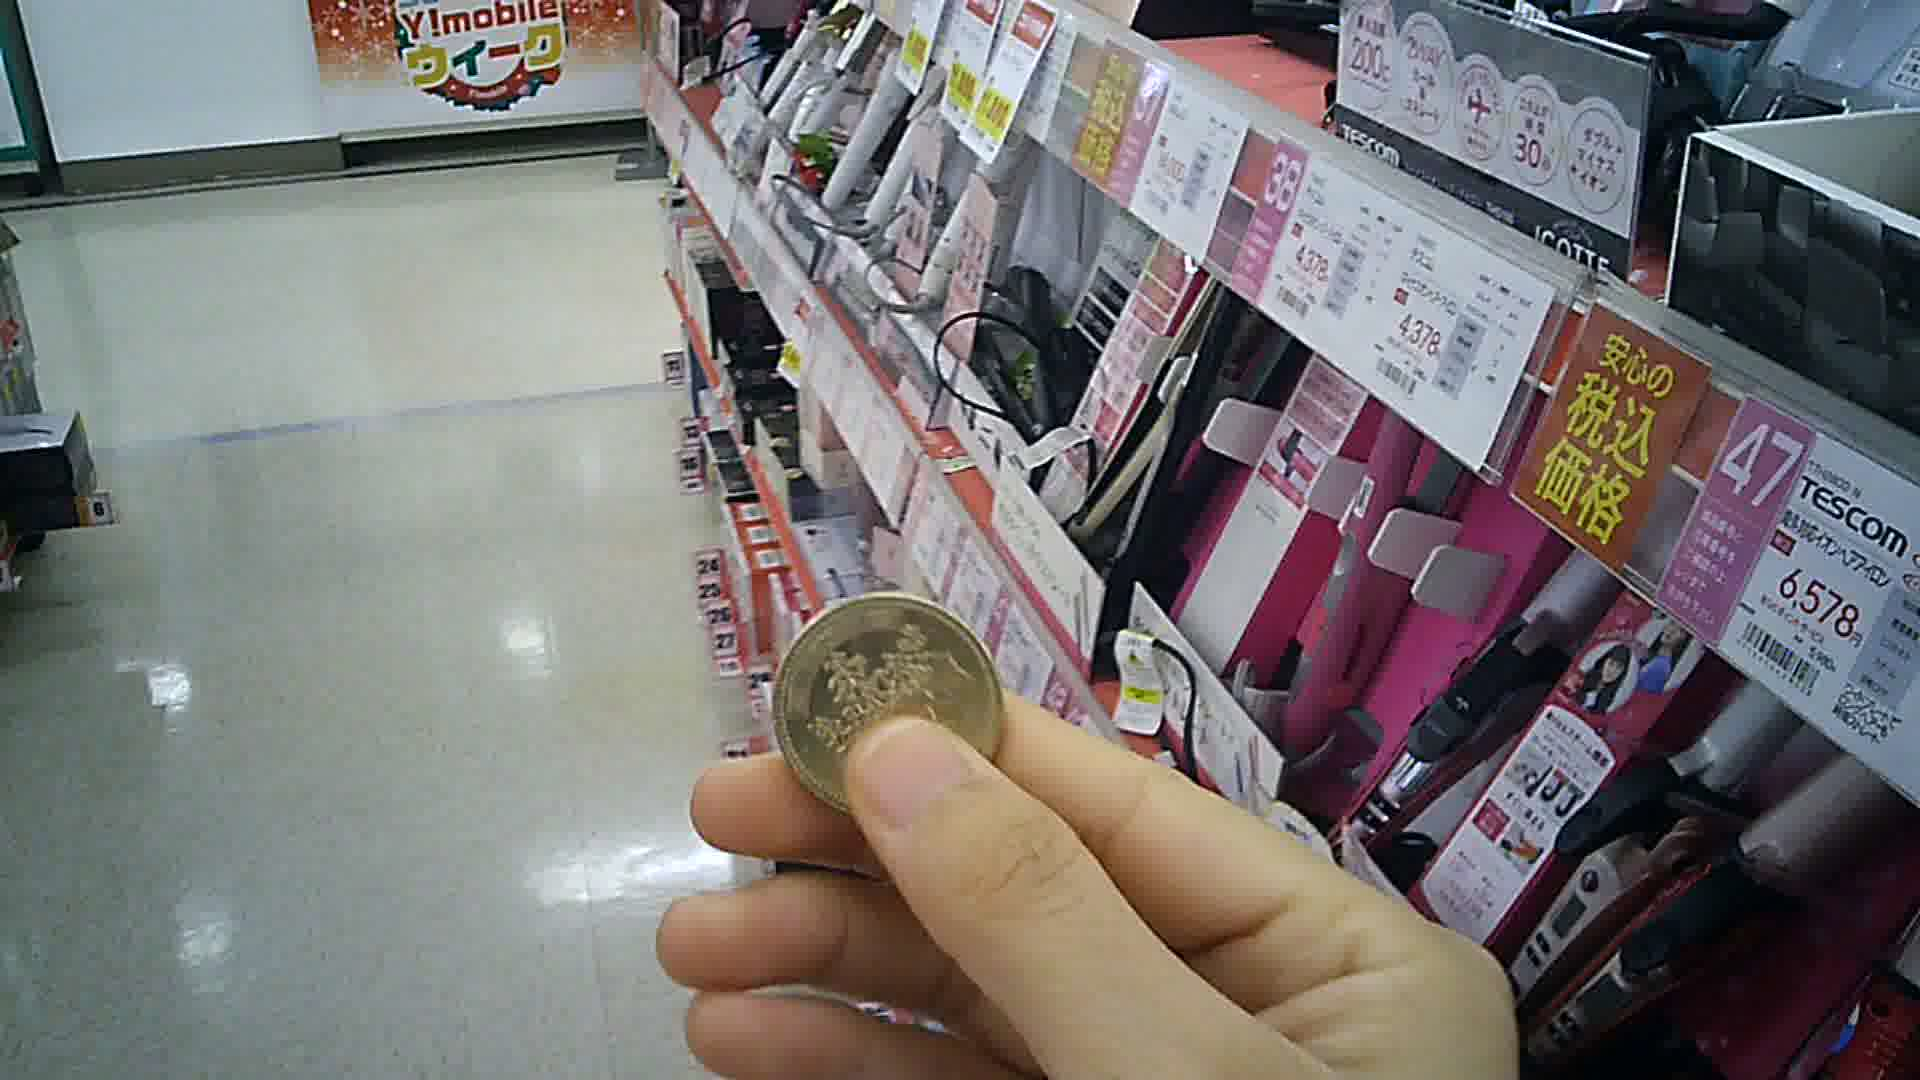500 Yen: (774, 592, 1013, 814)
